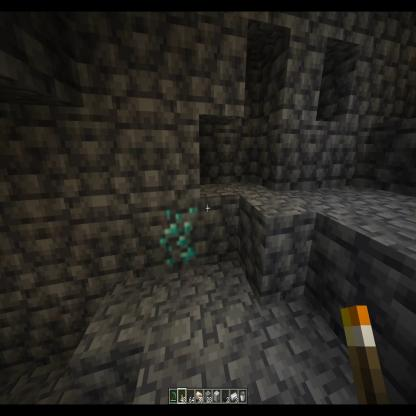diamond ore: (158, 197, 204, 273)
